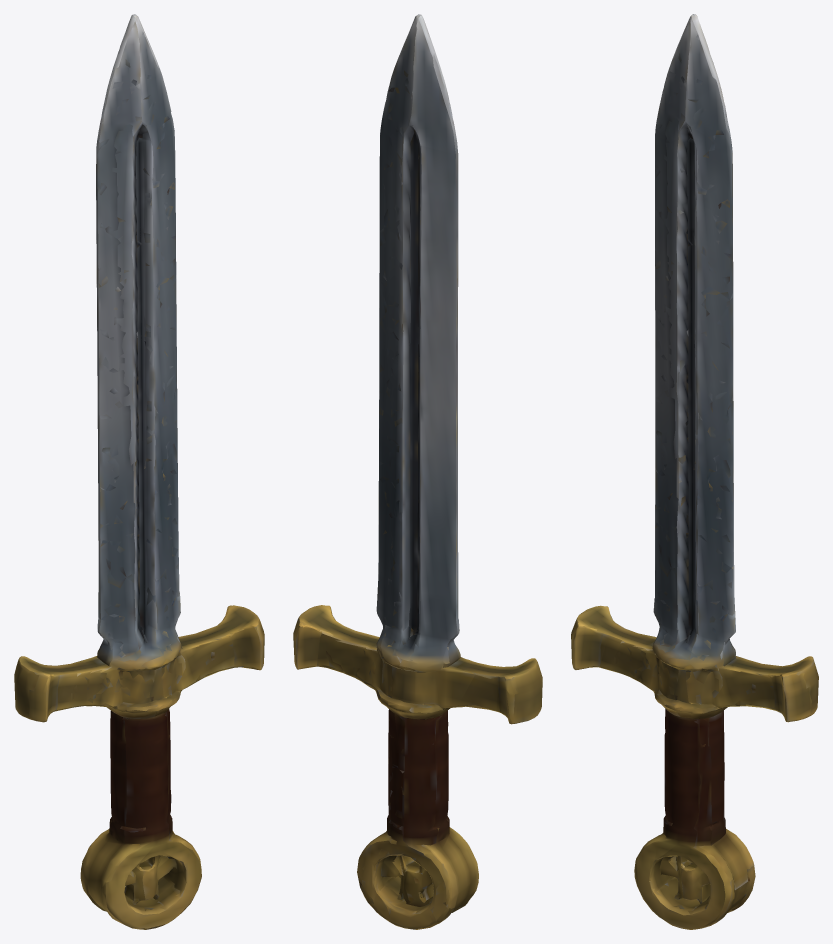
Rendered from espada_larga.glb.
3 views of the same model, side by side, from view 1: azimuth 30°, elevation 25°; view 2: azimuth 150°, elevation 25°; view 3: azimuth 330°, elevation 25° (orthographic).
Parts seen in each view (by area): view 1: world; view 2: world; view 3: world.
Boxes of the visible parts, x1=… form: world: x1=14, y1=14, x2=264, y2=929; world: x1=293, y1=14, x2=542, y2=929; world: x1=571, y1=14, x2=818, y2=929.
Bounding box in the file's own units: 0.29 × 1.05 × 0.0827.
1 material, 1 textured.
